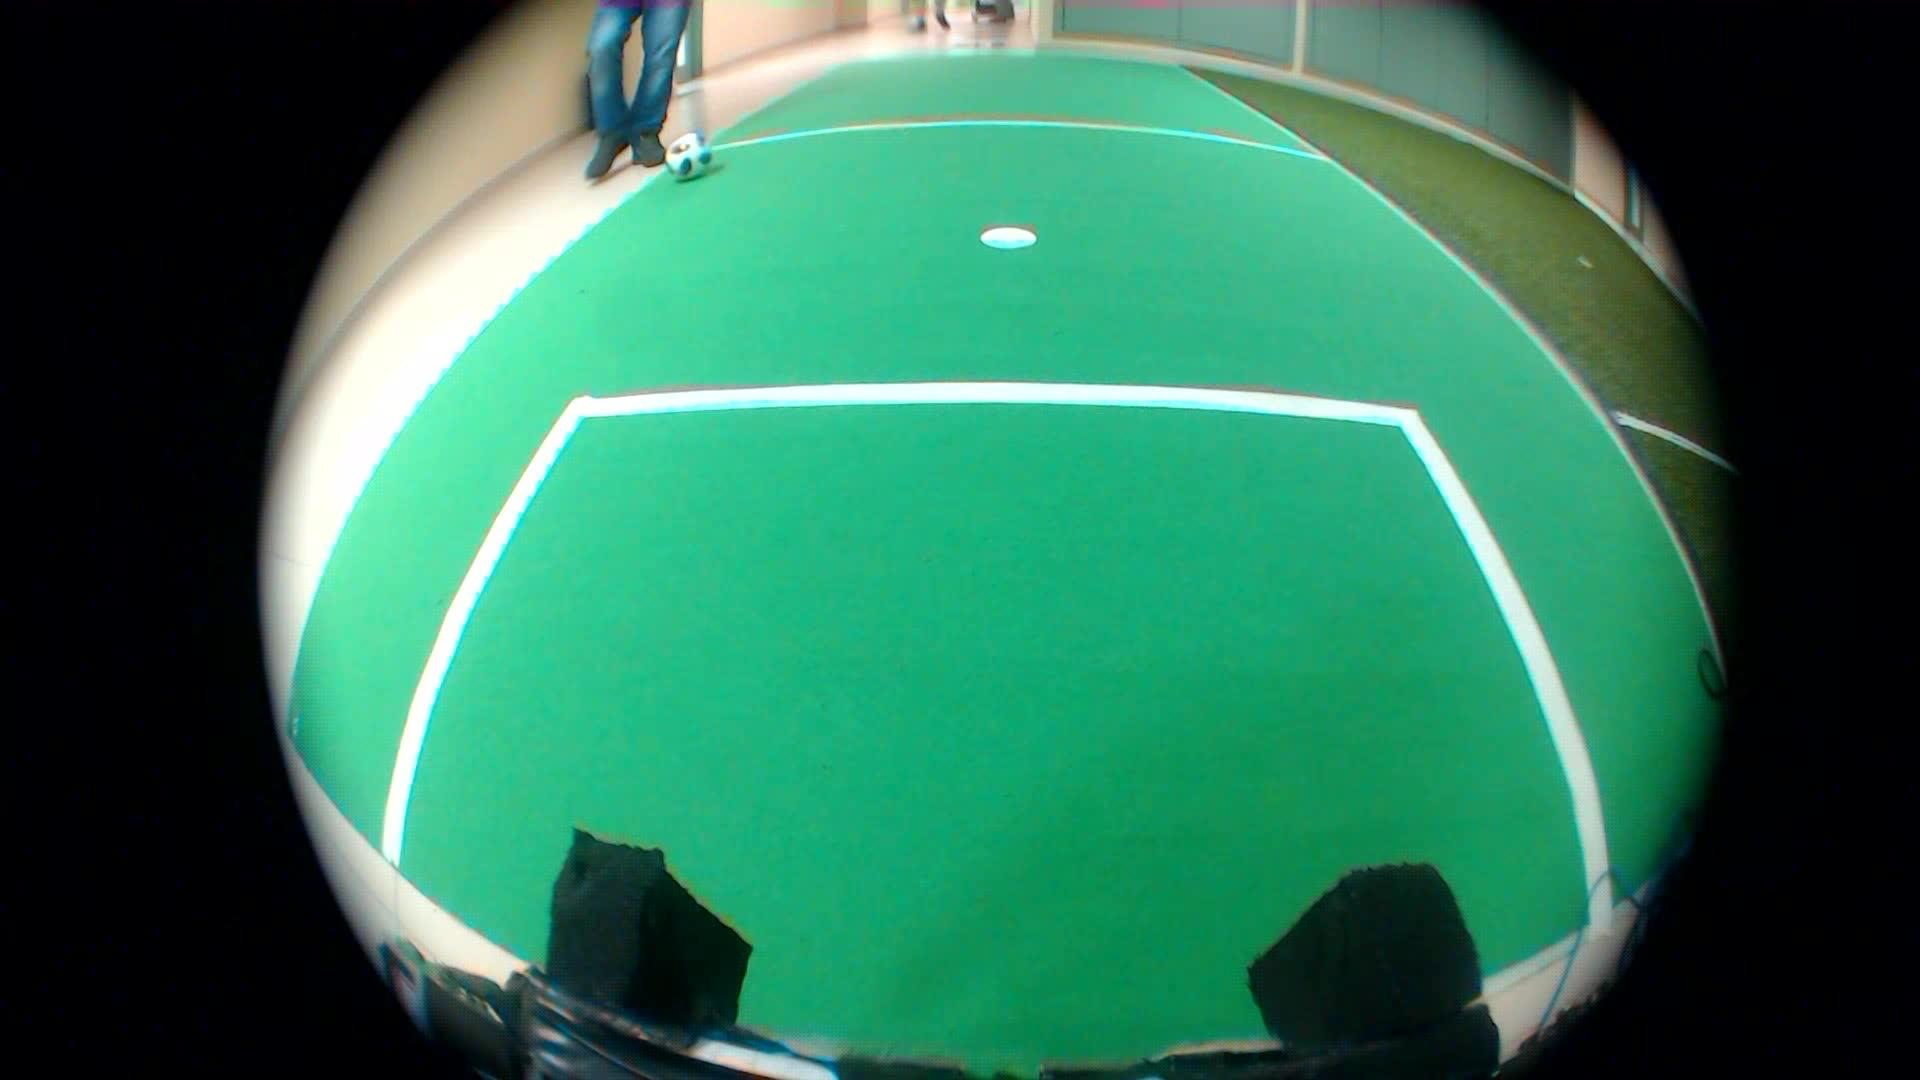ball: (663, 124, 720, 185)
